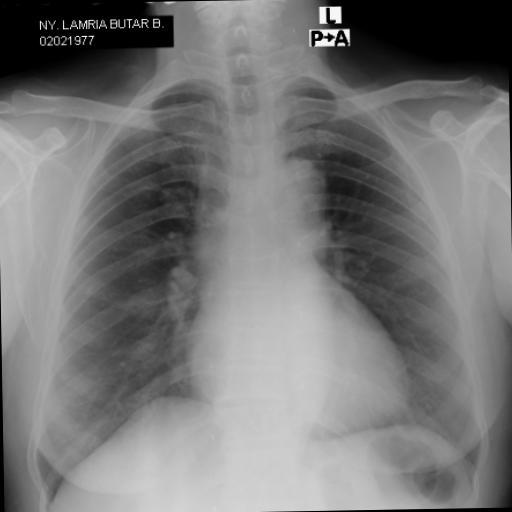kardiomegali: (25, 56, 491, 510)
